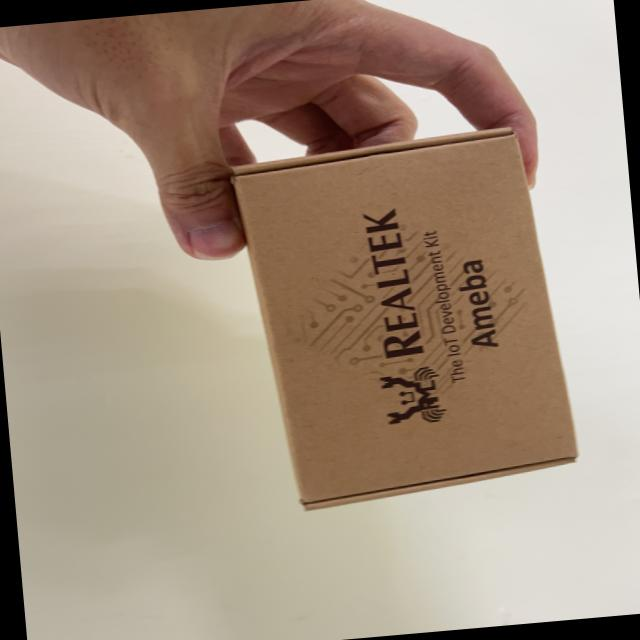box: (201, 118, 590, 532)
